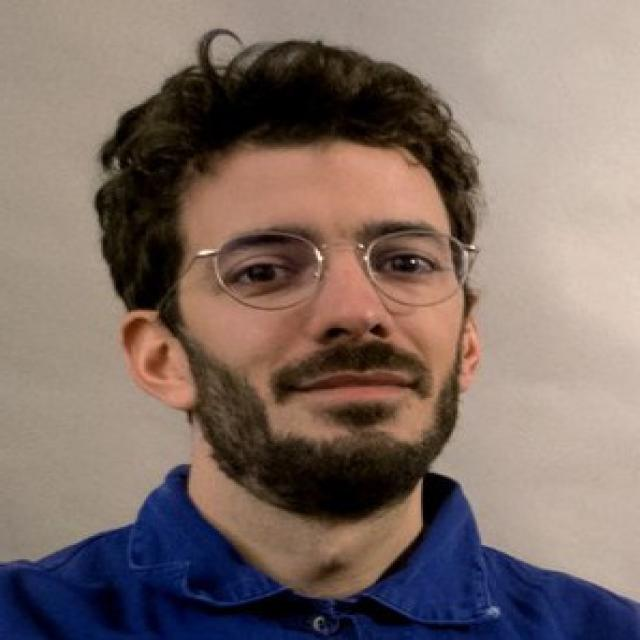earlobe: (118, 309, 197, 412), (456, 287, 482, 394)
